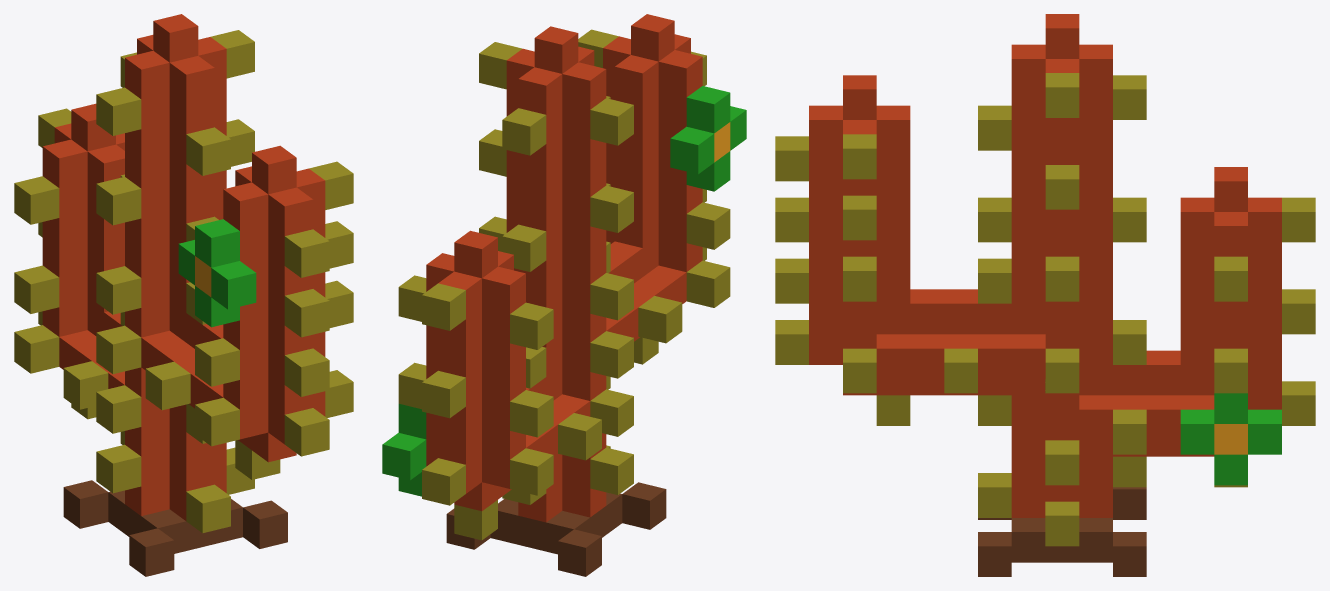
Rendered from Cactus_shrub.fbx.
3 renders of one model, left to right at view 1: azimuth 30°, elevation 25°; view 2: azimuth 150°, elevation 25°; view 3: azimuth 270°, elevation 25°, orthographic. The views are drawn at different scales.
Parts seen in each view (by area): view 1: Untitled; view 2: Untitled; view 3: Untitled.
Part boxes in pixels (<box>): Untitled: <box>14,14,353,576</box>; Untitled: <box>382,14,746,576</box>; Untitled: <box>775,14,1315,576</box>.
Size of the model in its own units: 50 by 170 by 160.
